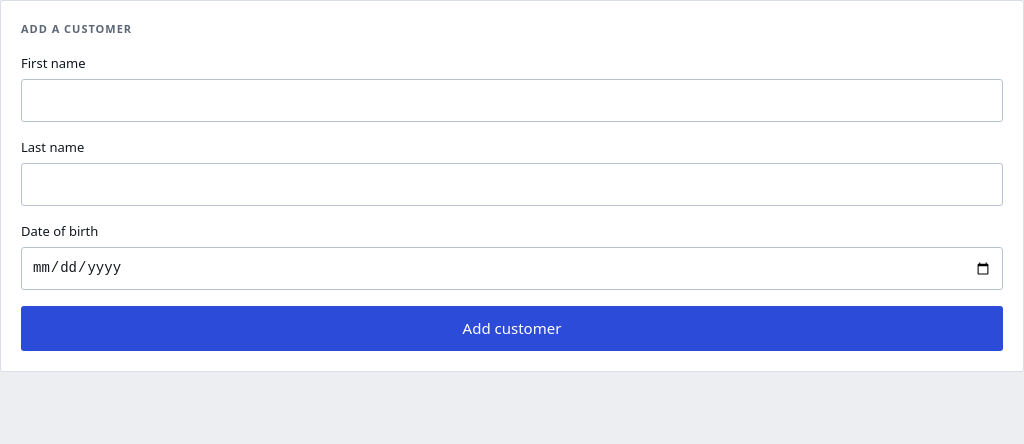
Scenario: CustomerForm › reports an unreachable API in plain language
In the field labelled "First name": (512, 100) [21, 79, 1003, 122], type "Jane"
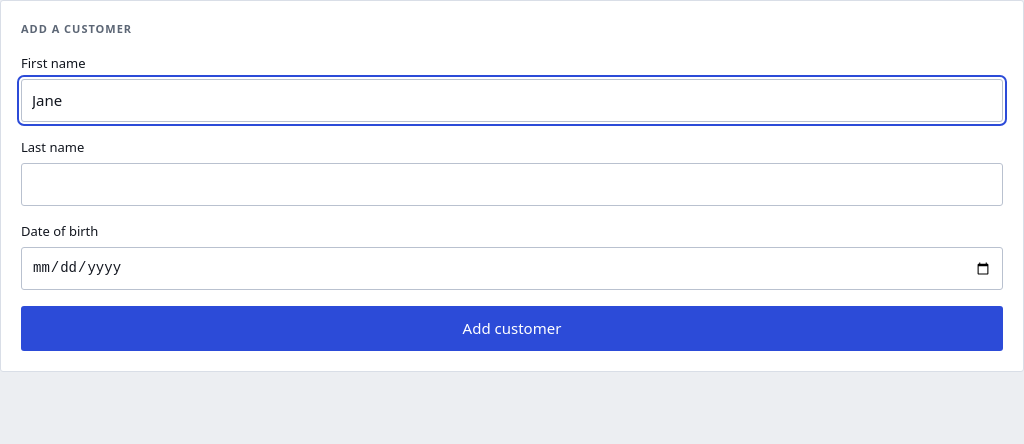
In the field labelled "Last name": (512, 184) [21, 163, 1003, 206], type "Doe"
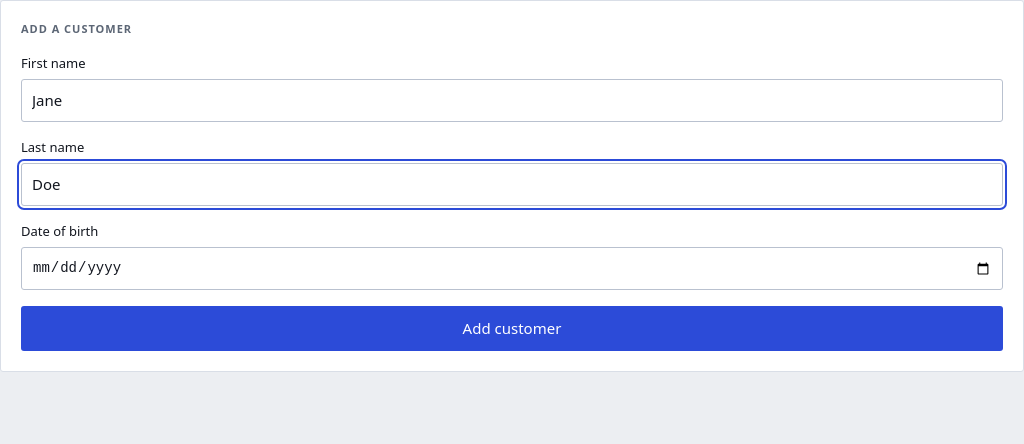
In the date field labelled "Date of birth": (512, 268) [21, 247, 1003, 290], type "1990-04-17"
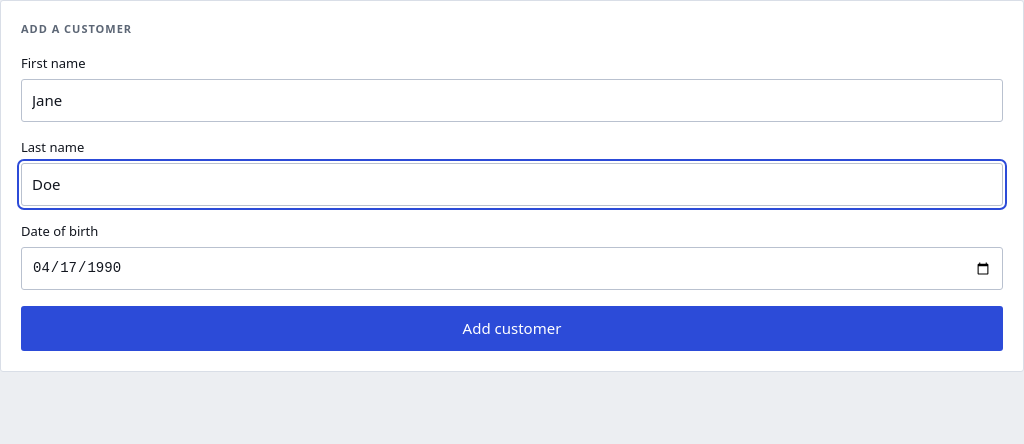
Click the button "Add customer": click(512, 328) [21, 306, 1003, 350]
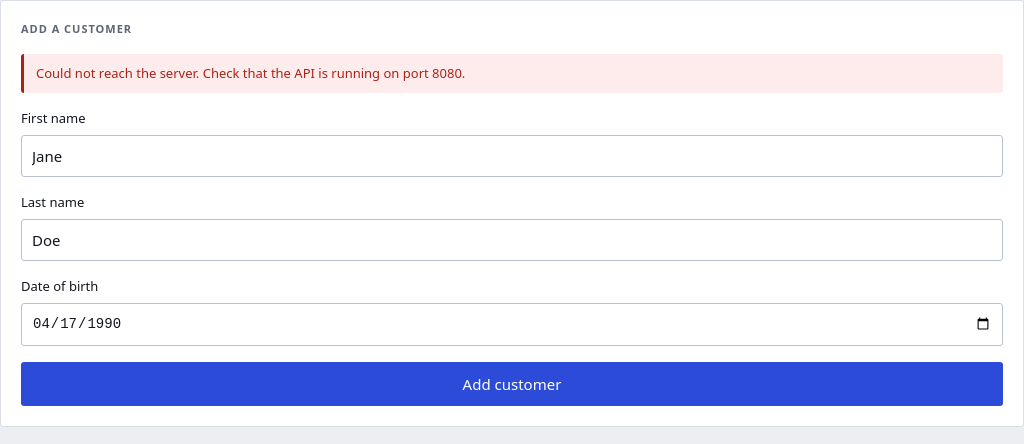
Now the message shows "Could not reach the server", box [36, 64, 465, 82]
